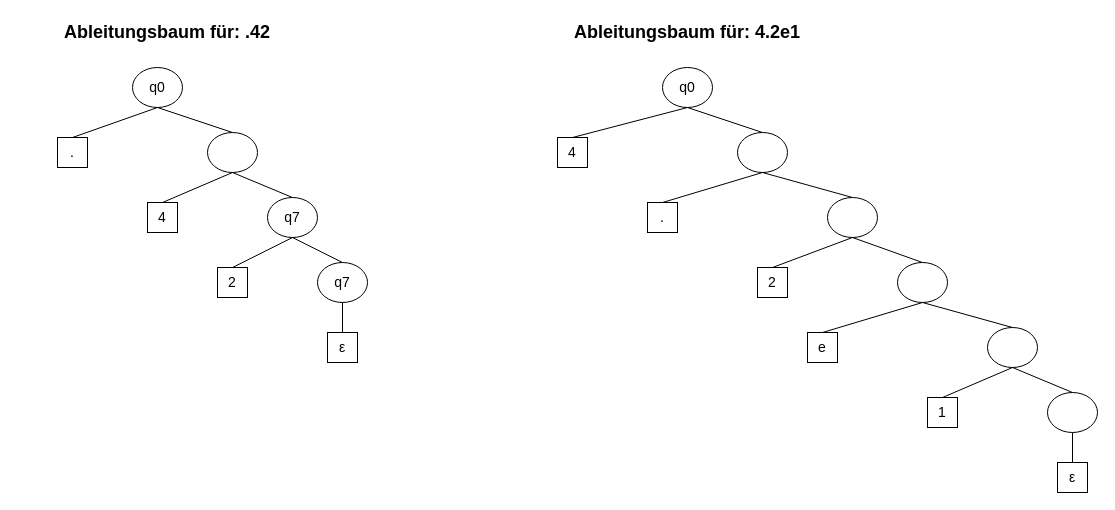
Some shapes in this 1115 by 510 pixel diagram are drawn without their labels. Each missing label, with the box of its shape:
q1: (736, 132, 788, 172)
q10: (986, 326, 1038, 368)
q3: (1046, 392, 1098, 432)
q4: (826, 196, 878, 238)
q5: (896, 262, 948, 302)
q6: (206, 132, 258, 172)
